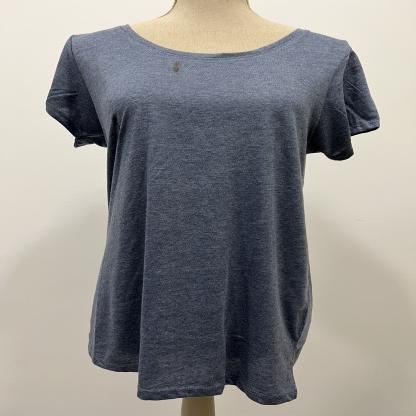stain: (169, 59, 185, 74)
